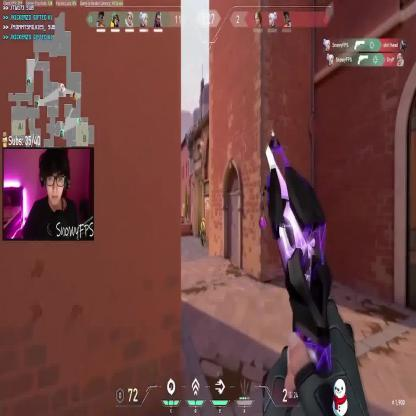enemy: (199, 216, 206, 247)
enemy_head: (201, 216, 205, 222)
